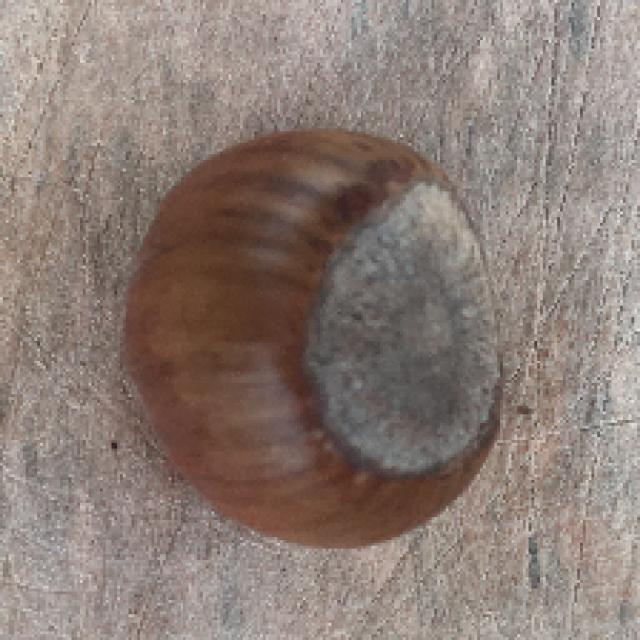DamagedHazelnut: (122, 122, 508, 555)
